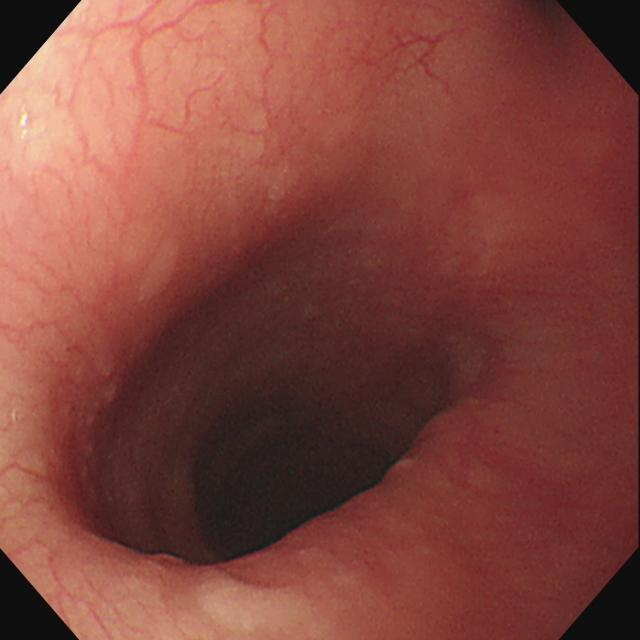E: (221, 446, 363, 552)
